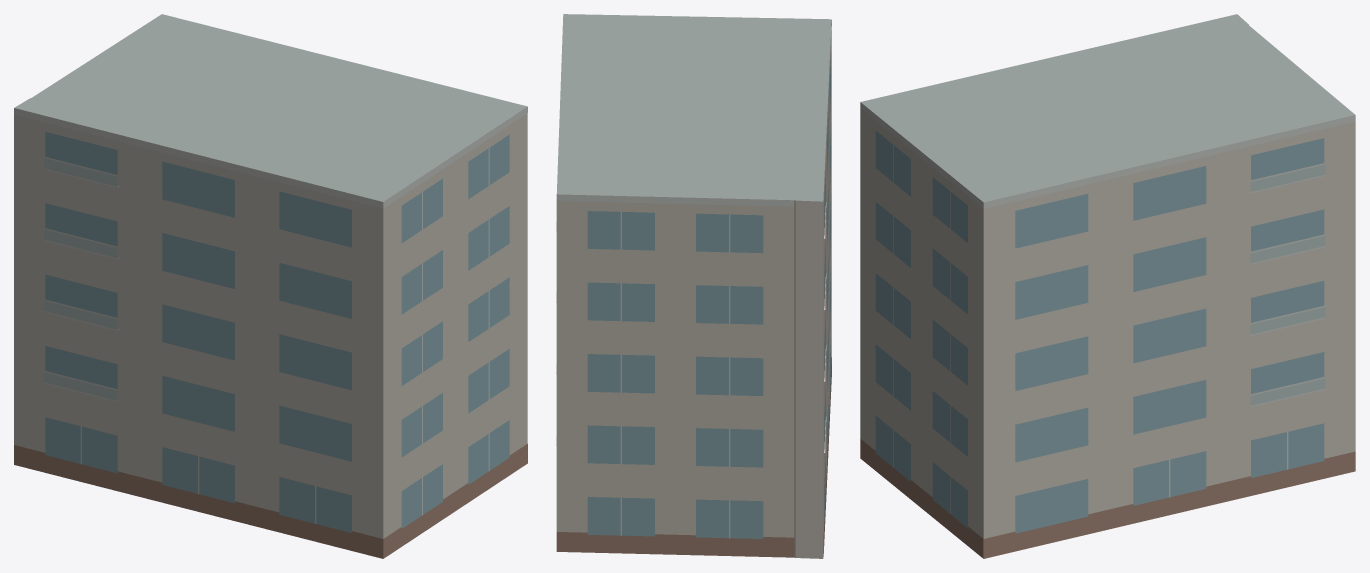
Rendered from survey-upis-32886685.glb.
The picture shows the model from 3 angles, left to right: view 1: azimuth 30°, elevation 25°; view 2: azimuth 150°, elevation 25°; view 3: azimuth 270°, elevation 25°; orthographic projection.
Parts seen in each view (by area): view 1: survey-upis-32886685.tmp; view 2: survey-upis-32886685.tmp; view 3: survey-upis-32886685.tmp.
Part boxes in pixels (bbox=[...]): survey-upis-32886685.tmp: bbox=[14, 14, 527, 558]; survey-upis-32886685.tmp: bbox=[556, 14, 831, 558]; survey-upis-32886685.tmp: bbox=[860, 14, 1355, 558].
Bounding box in the file's own units: 14.98 × 13.2 × 16.63.
